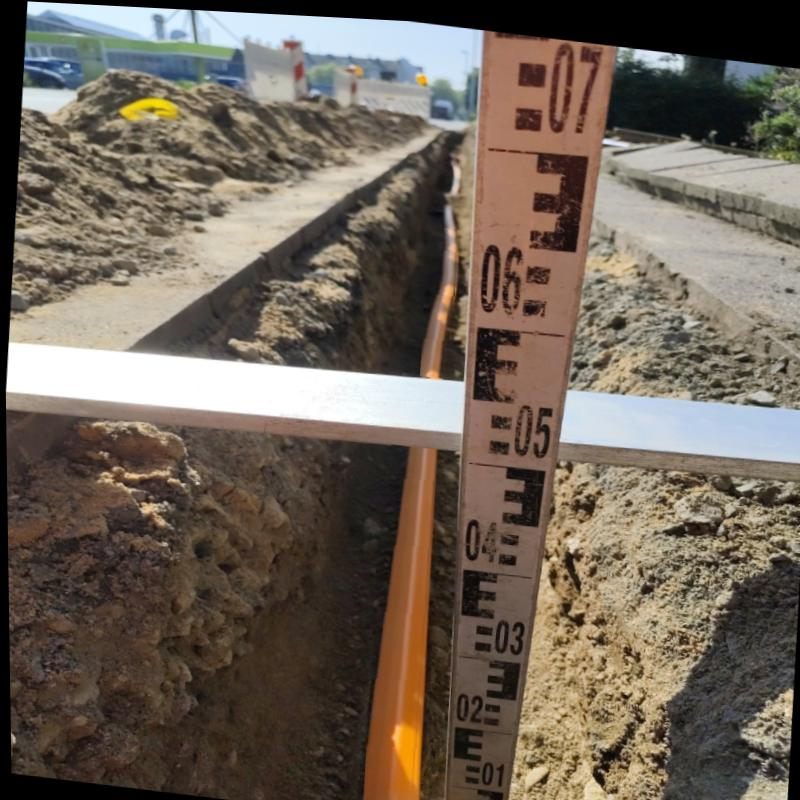Orang-Speednetrohrchen: (360, 442, 435, 800), (418, 224, 457, 373)
